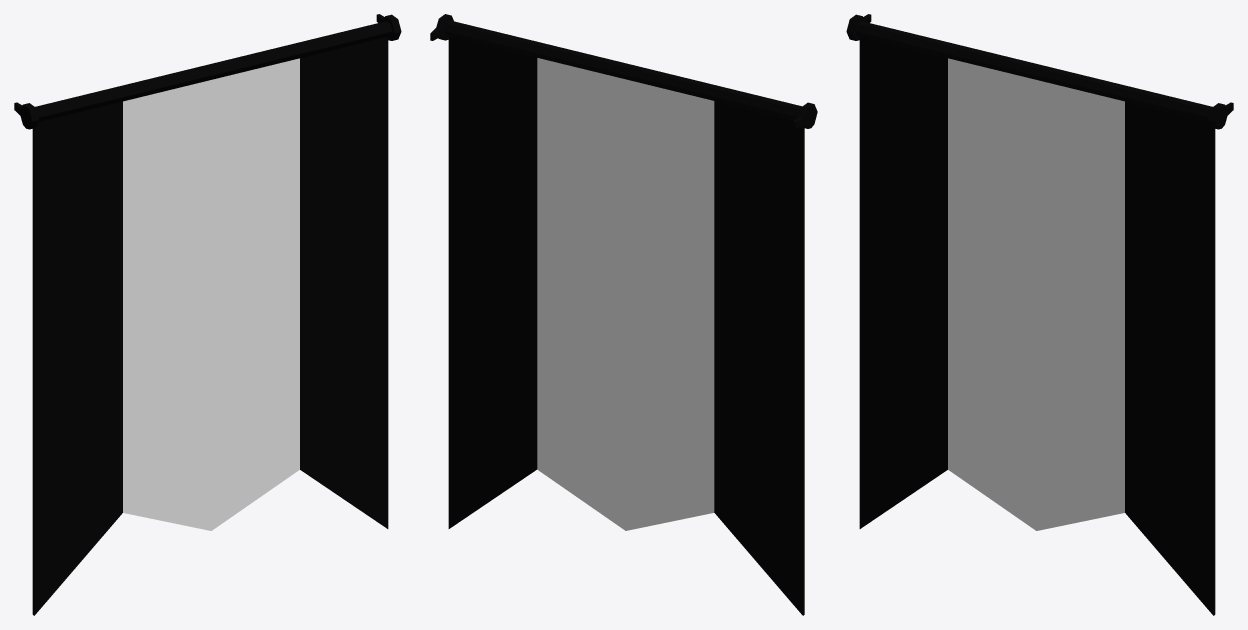
File: Banner_02.fbx
3 renders of one model, left to right at view 1: azimuth 30°, elevation 25°; view 2: azimuth 150°, elevation 25°; view 3: azimuth 330°, elevation 25°, orthographic.
Parts seen in each view (by area): view 1: Banner_02; view 2: Banner_02; view 3: Banner_02.
Part boxes in pixels (x1,y1,x2,y2): Banner_02: (14, 14, 401, 615); Banner_02: (430, 14, 817, 615); Banner_02: (846, 14, 1233, 615).
Bounding box in the file's own units: 115 × 151 × 10.81.
